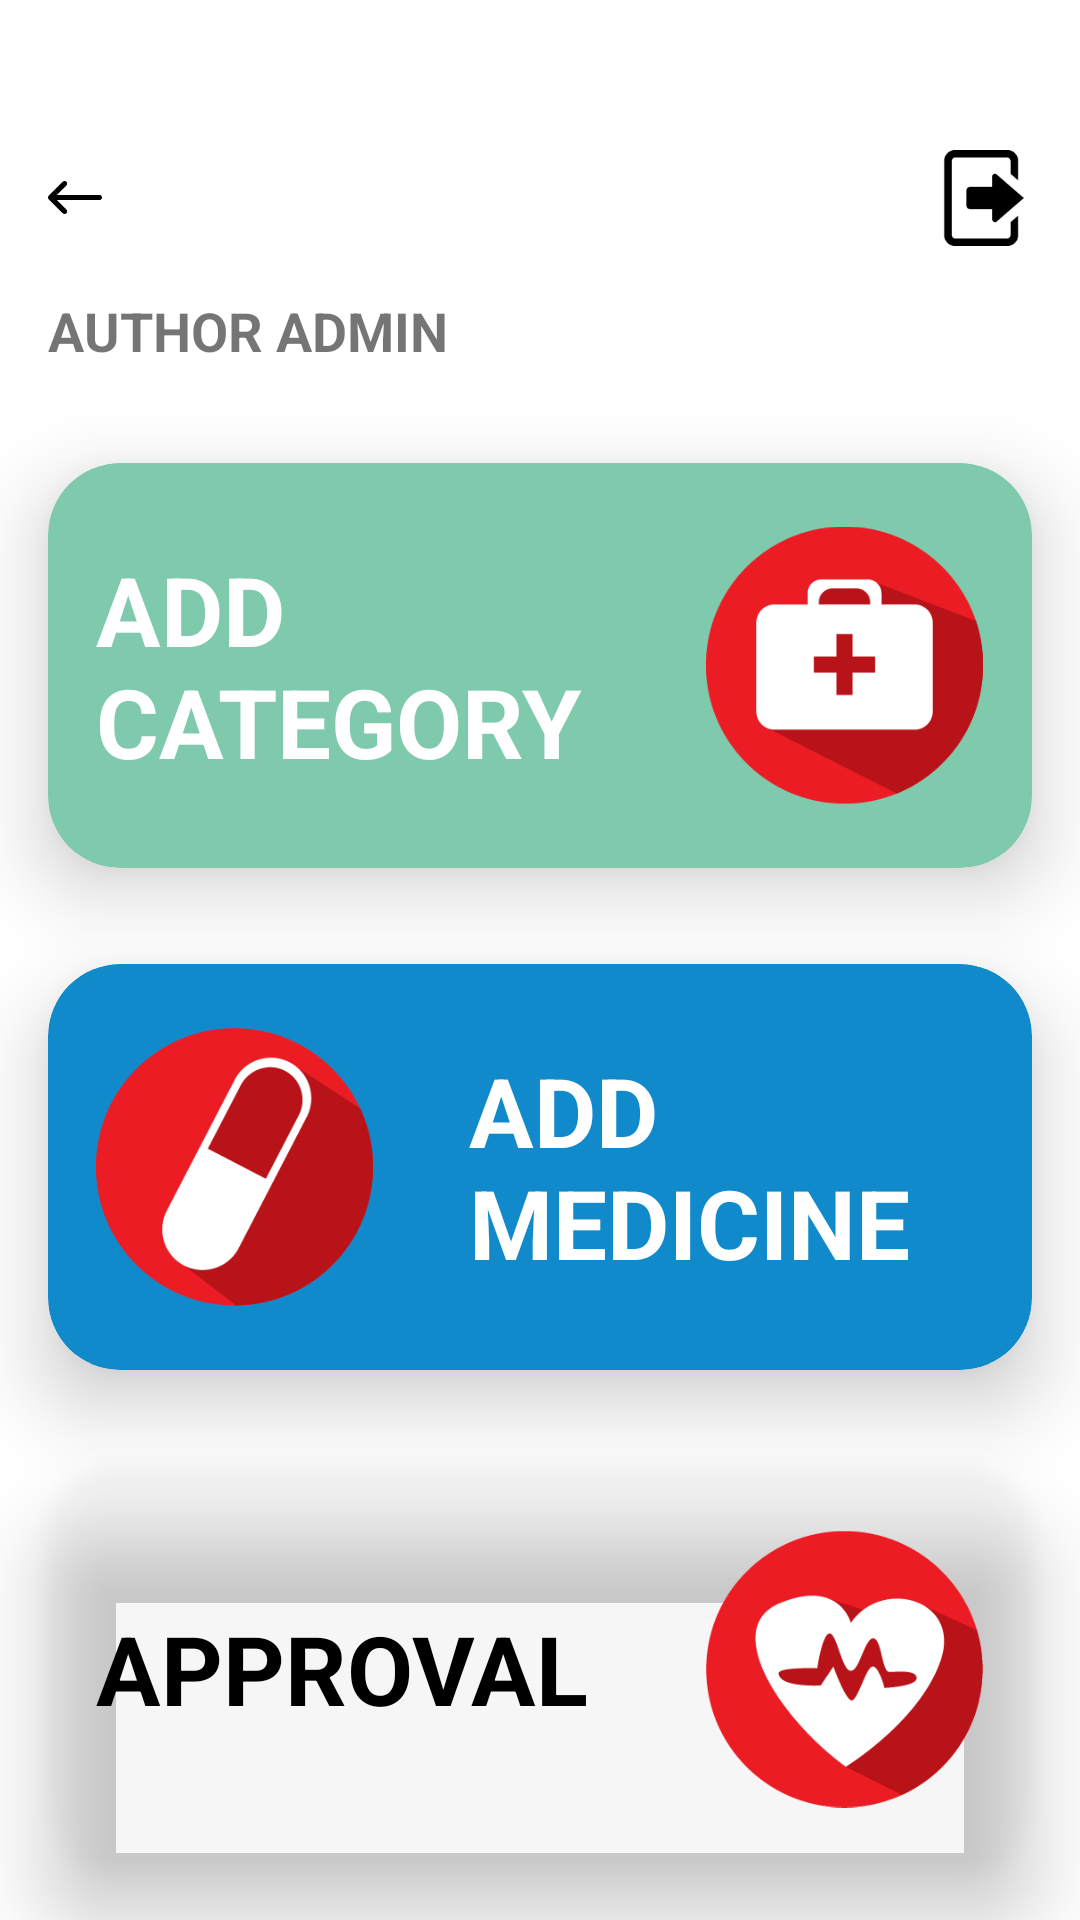

Screen size 1080px x 1920px. Icon name, then its box in pixels as (x1, y1, x2, y2):
back: (48, 181, 102, 214)
